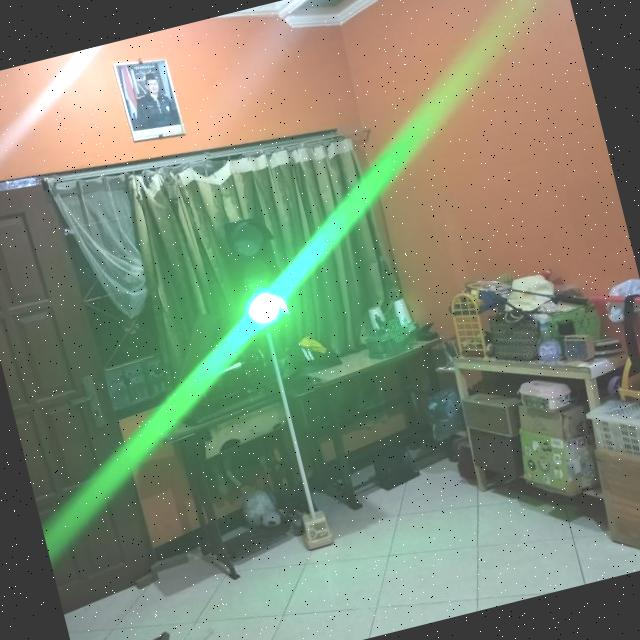green_light: (224, 211, 294, 335)
